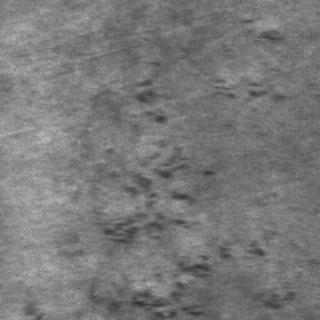rolled pit: (96, 74, 210, 316), (205, 236, 317, 310), (202, 68, 288, 110)
